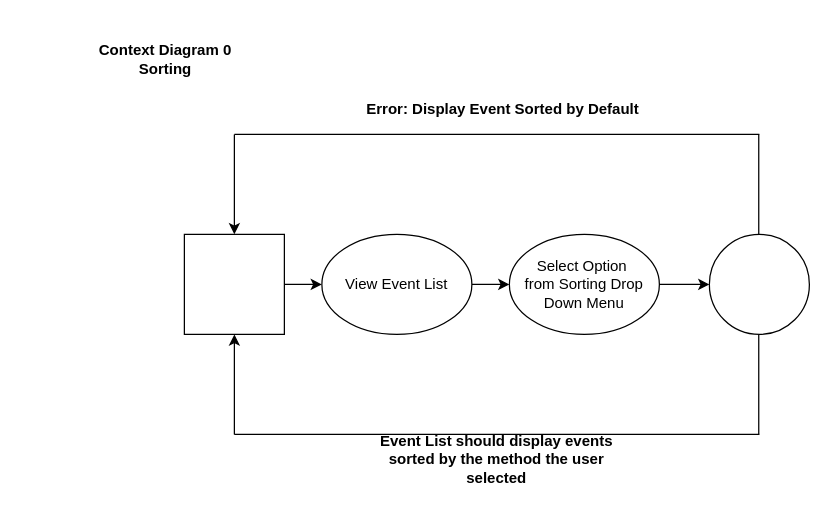
The diagram is 831 pixels wide and 508 high, and some of its shapes have lost their labels. Here are the shapes that lost their labels. From the top down, the centre of each, then its label:
the point at 233,283: User
the point at 758,283: Event List
